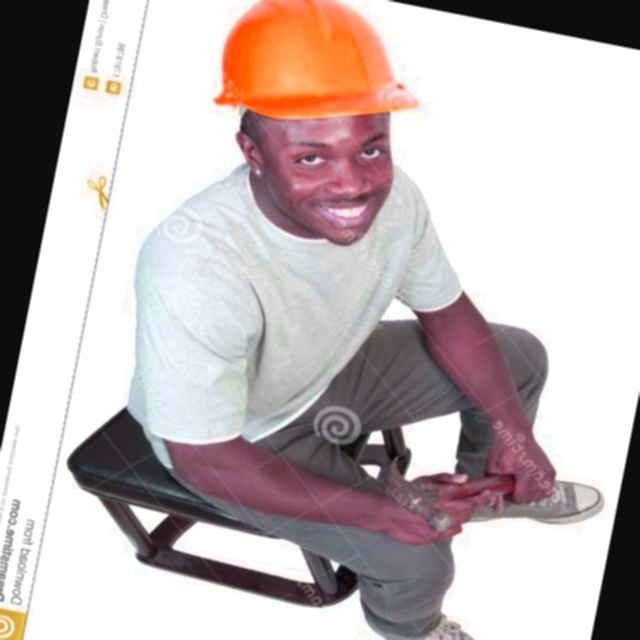Con_Casco: (189, 0, 428, 242)
